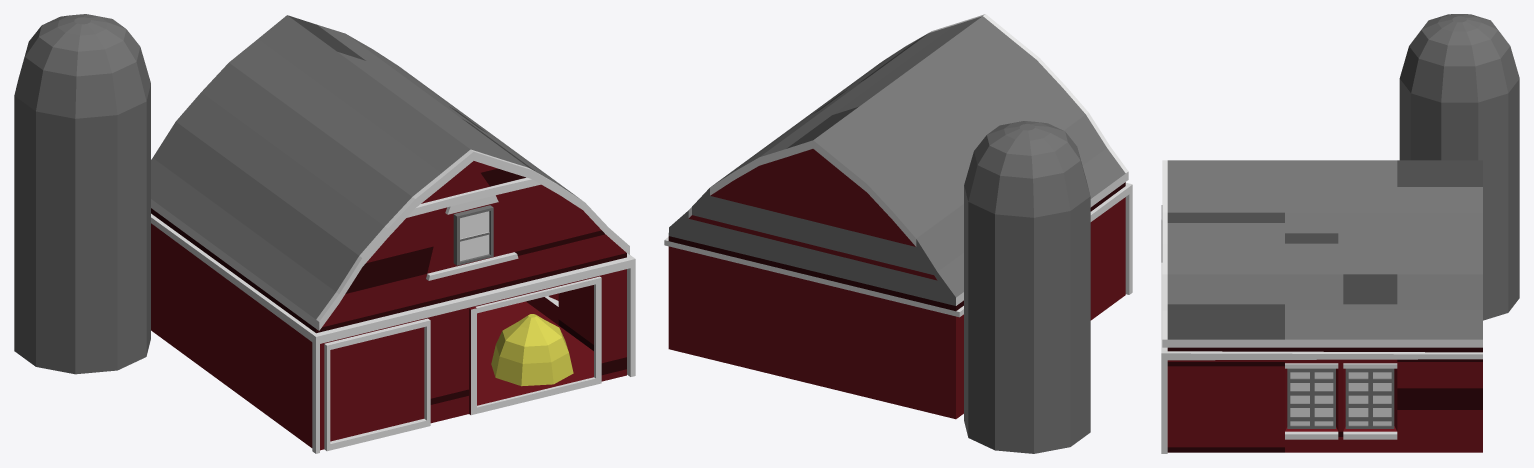
The model's file is Ferme-2.fbx.
The picture shows the model from 3 angles, left to right: view 1: azimuth 30°, elevation 25°; view 2: azimuth 150°, elevation 25°; view 3: azimuth 270°, elevation 25°; orthographic projection. The views are drawn at different scales.
Visible parts, largest first — view 1: Grange, Silo, Botte de pailles; view 2: Grange, Silo; view 3: Grange, Silo.
Boxes of the visible parts, box(x1,y1,x2,y2) form: Grange: box(151, 15, 635, 453); Silo: box(14, 14, 150, 374); Botte de pailles: box(491, 314, 573, 386); Grange: box(664, 14, 1132, 419); Silo: box(964, 121, 1090, 453); Grange: box(1161, 160, 1482, 453); Silo: box(1399, 14, 1519, 320).
Bounding box in the file's own units: 1329 × 940 × 1096.
